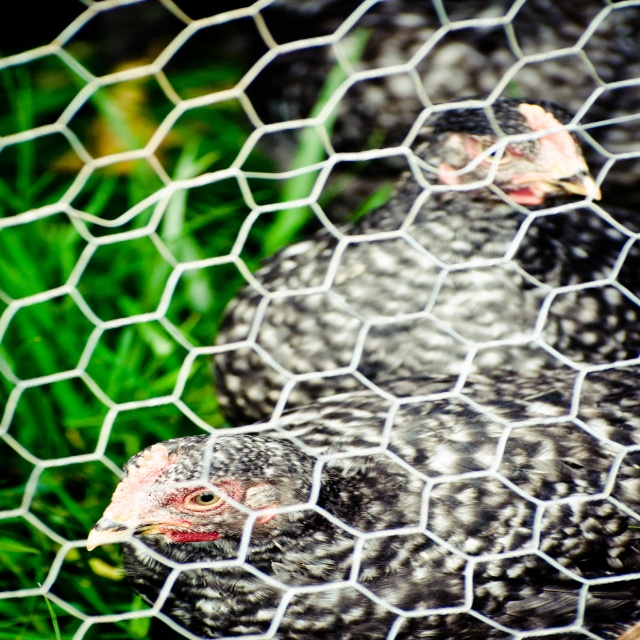Chicken: (83, 372, 640, 640), (211, 103, 640, 431)
